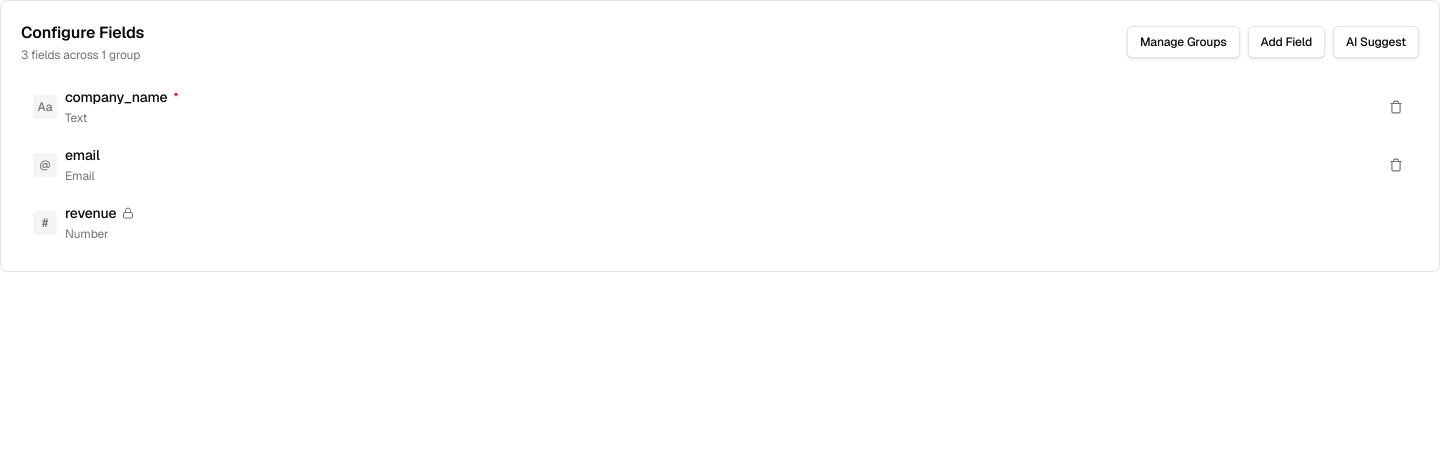
Test: InlineFieldManager › action buttons › shows Group Manager panel on button click
Step 1. Click the button with aria-label "Manage field groups" → (1183, 42), box [1127,26,1240,58]
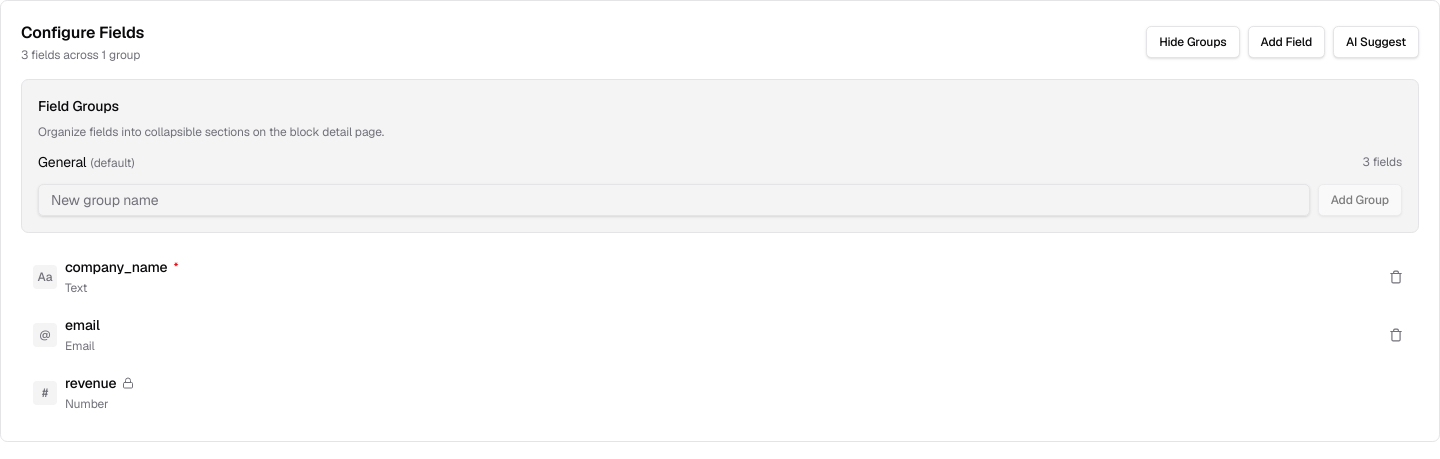
Expected: the heading "Field Groups" is shown, [38,97,119,115]
